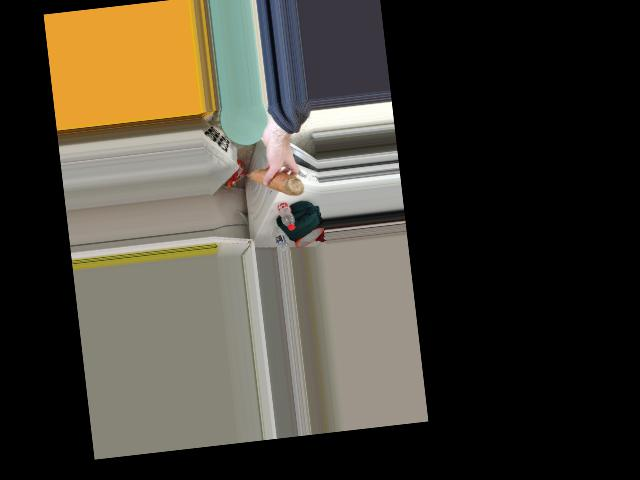sweet_potato: (250, 160, 301, 202)
